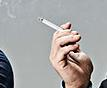smoke: (38, 17, 67, 34)
